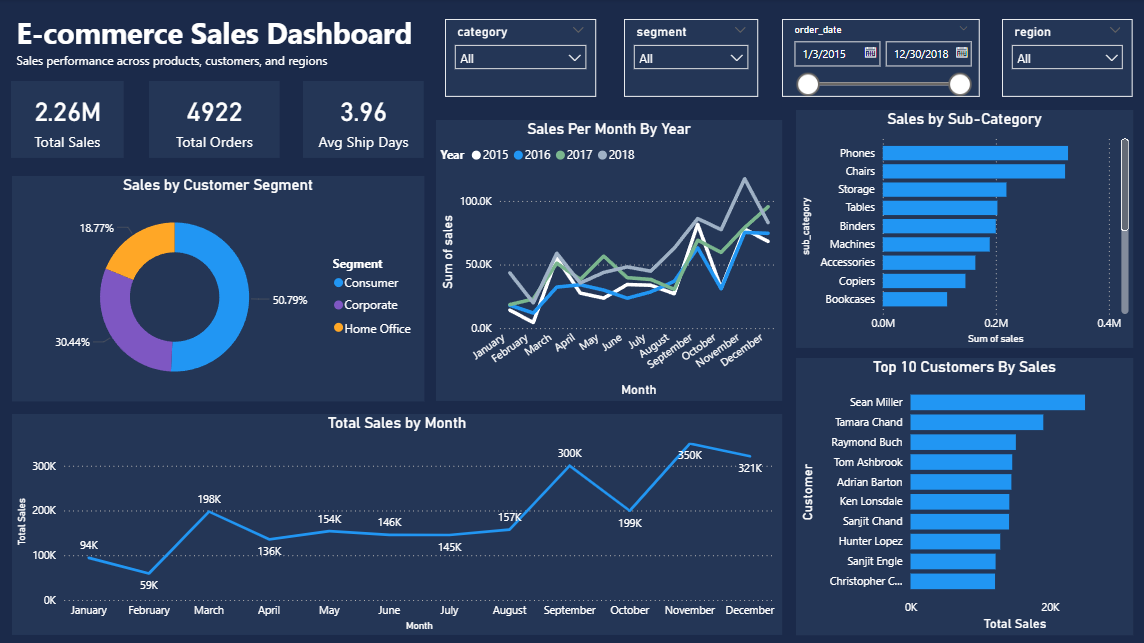

The dashboard page shown, as its layout file describes it:
{"tool":"powerbi","page":{"name":"Page 1","canvas":[1280,720],"ordinal":0},"visuals":[{"type":"card","fields":{"Values":["public orders.Avg Ship Days"]},"box":[338.9,91.9,135.3,85.8],"z":0,"group":"g1"},{"type":"lineChart","fields":{"Y":["public order_items.Total Sales"],"Category":["public orders.order_date.Variation.Date Hierarchy.Month"]},"box":[13.4,463.9,860.8,247.1],"z":0},{"type":"card","fields":{"Values":["public order_items.Total Sales"]},"box":[12.8,91.9,126.2,85.8],"z":1000,"group":"g1"},{"type":"textbox","box":[13.1,10.1,473.4,55.5],"z":2000},{"type":"card","fields":{"Values":["public orders.Total Orders"]},"box":[167.2,91.9,146.4,85.8],"z":2000,"group":"g1"},{"type":"textbox","box":[13.4,54.8,362.2,36.9],"z":3000},{"type":"group","id":"g1","title":"Group 1","box":[12.8,91.9,462,86.1],"z":4000},{"type":"slicer","fields":{"Values":["public orders.order_date"]},"box":[874.2,22.4,221.3,87.2],"z":5000},{"type":"slicer","fields":{"Values":["public customers.segment"]},"box":[697.6,22.4,149.8,87.2],"z":6000},{"type":"slicer","fields":{"Values":["public products.category"]},"box":[497.5,22.4,168.8,87.2],"z":7000},{"type":"slicer","fields":{"Values":["public locations.region"]},"box":[1120.1,22.4,146.4,87.2],"z":8000},{"type":"donutChart","title":"Sales by Customer Segment","fields":{"Category":["public customers.segment"],"Y":["Sum(public order_items.sales)"]},"box":[13.4,197.9,460.6,251.5],"z":8001},{"type":"clusteredBarChart","title":"Top 10 Customers By Sales","fields":{"Category":["public customers.customer_name"],"Y":["Sum(public order_items.sales)"]},"box":[889.9,401.3,376.7,309.7],"z":8002},{"type":"lineChart","title":"Sales Per Month By Year","fields":{"Series":["public orders.Year"],"Y":["Sum(public order_items.sales)"],"Category":["public orders.order_date.Variation.Date Hierarchy.Month"]},"box":[487.4,135.3,386.8,314.1],"z":8003},{"type":"clusteredBarChart","title":"Sales by Sub-Category","fields":{"Category":["public products.sub_category"],"Y":["Sum(public order_items.sales)"]},"box":[889.9,124.1,376.7,266.1],"z":8004}]}

Visuals, with their boxes in screenshot pixels (x1, y1, x2, y2), scaled from the page's 1280x720 canvas onto the 1144x643 screenshot:
card - public orders.Avg Ship Days: box=[303, 82, 424, 159]
lineChart - public order_items.Total Sales x public orders.order_date.Variation.Date Hierarchy.Month: box=[12, 414, 781, 635]
card - public order_items.Total Sales: box=[11, 82, 124, 159]
textbox: box=[12, 9, 435, 59]
card - public orders.Total Orders: box=[149, 82, 280, 159]
textbox: box=[12, 49, 336, 82]
"Group 1" group: box=[11, 82, 424, 159]
slicer - public orders.order_date: box=[781, 20, 979, 98]
slicer - public customers.segment: box=[623, 20, 757, 98]
slicer - public products.category: box=[445, 20, 596, 98]
slicer - public locations.region: box=[1001, 20, 1132, 98]
"Sales by Customer Segment" donutChart: box=[12, 177, 424, 401]
"Top 10 Customers By Sales" clusteredBarChart: box=[795, 358, 1132, 635]
"Sales Per Month By Year" lineChart: box=[436, 121, 781, 401]
"Sales by Sub-Category" clusteredBarChart: box=[795, 111, 1132, 348]
